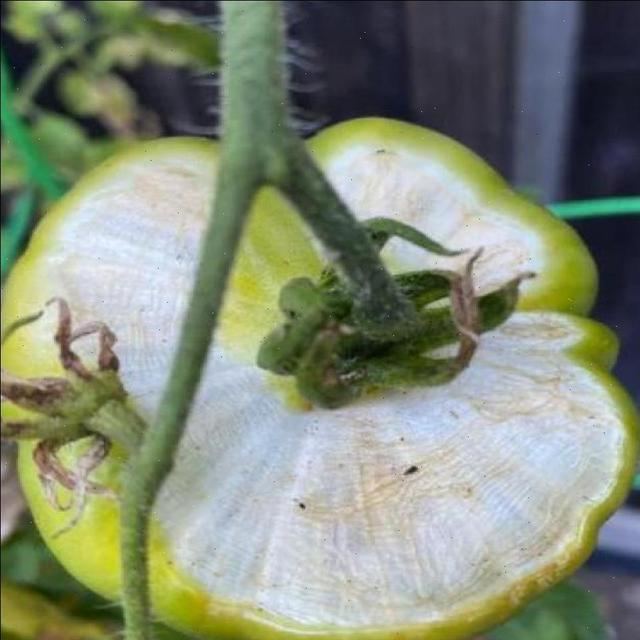Sunscald Fruit: (25, 90, 415, 424)
